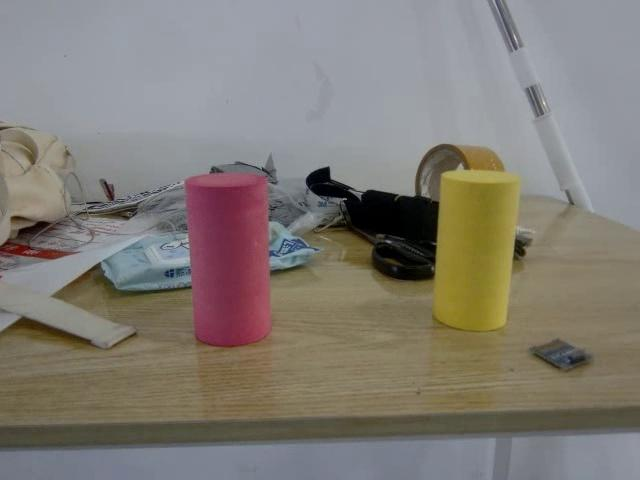red_cylinder: (184, 171, 269, 347)
yellow_cylinder: (432, 170, 520, 330)
